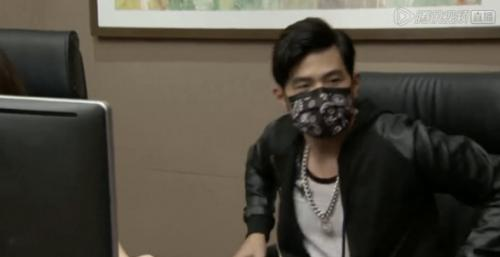OK: (282, 60, 357, 135)
